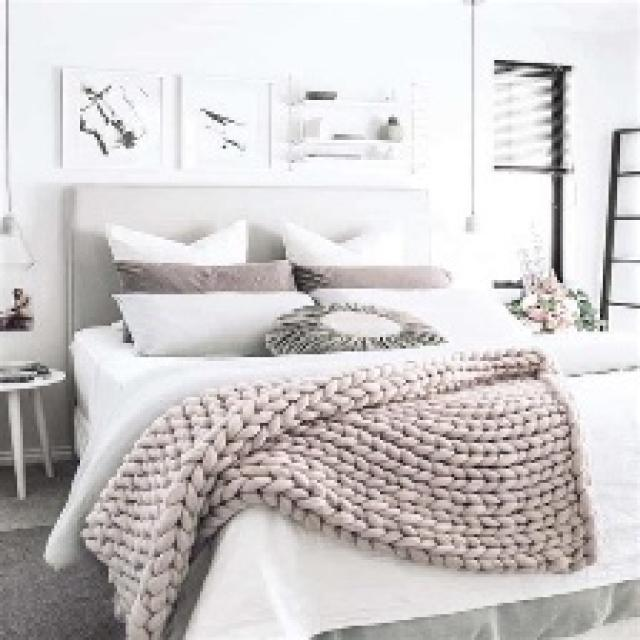Bed: (52, 183, 637, 637)
